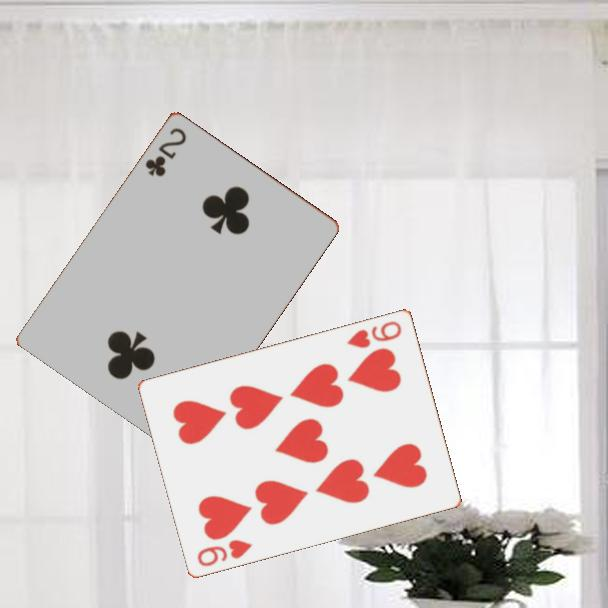c02: (141, 124, 189, 179)
h09: (343, 317, 405, 351), (194, 536, 255, 569)
